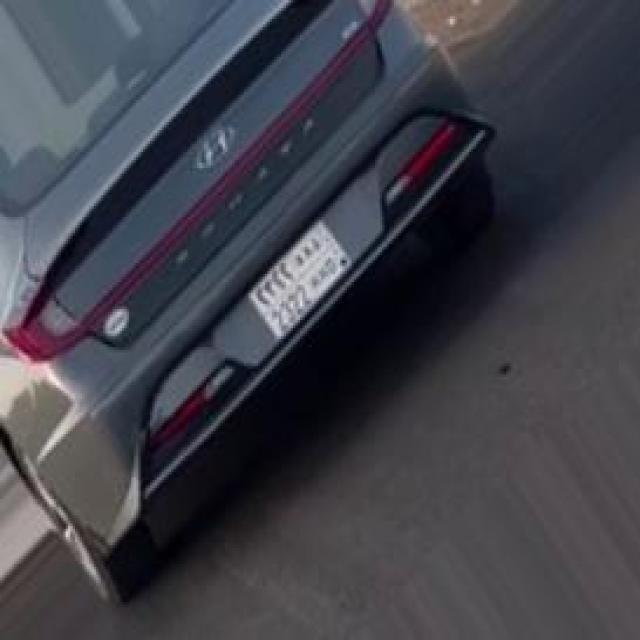Car-plate: (245, 208, 355, 346)
